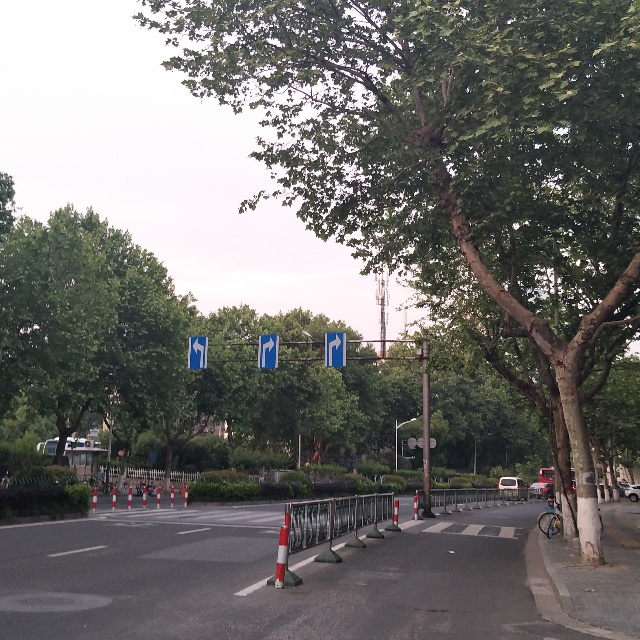left: (186, 333, 211, 371)
right: (257, 331, 280, 374), (326, 330, 348, 370)
